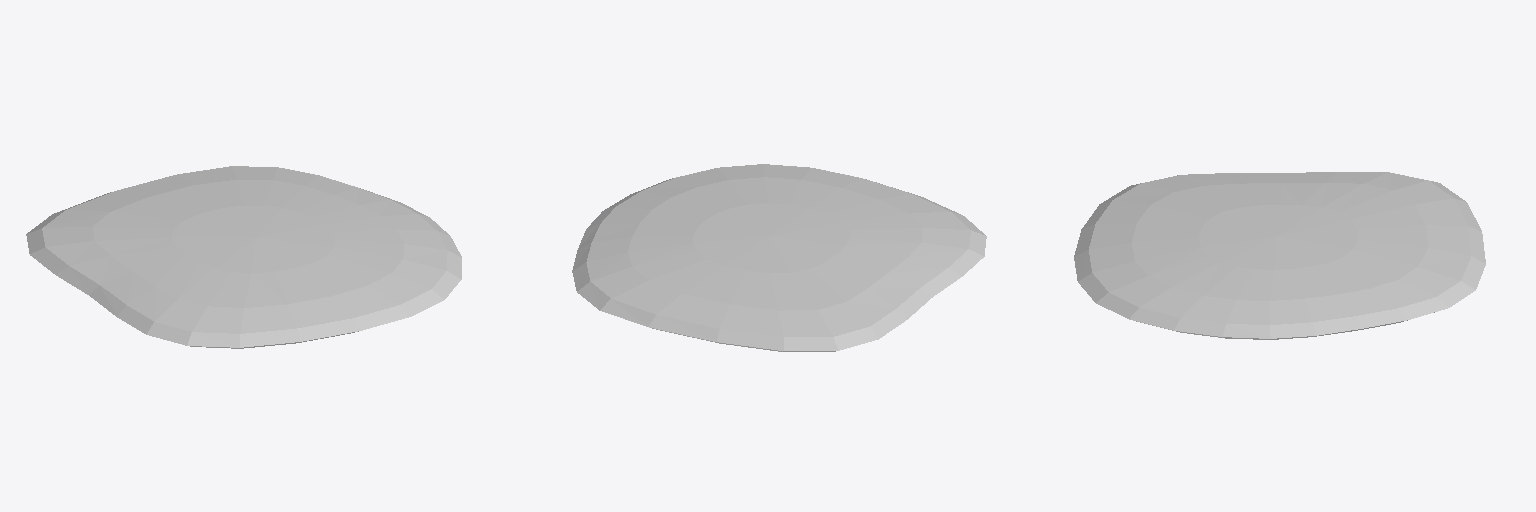
Rendered from piss.obj.
The picture shows the model from 3 angles: view 1: azimuth 30°, elevation 25°; view 2: azimuth 150°, elevation 25°; view 3: azimuth 270°, elevation 25°; orthographic projection.
Visible parts, largest first — view 1: Sphere; view 2: Sphere; view 3: Sphere.
Part boxes in pixels (left/top/right/bottom): Sphere: left=26, top=166, right=461, bottom=348; Sphere: left=572, top=164, right=986, bottom=351; Sphere: left=1074, top=172, right=1485, bottom=339.
Bounding box in the file's own units: 1.98 × 0.2166 × 2.08.